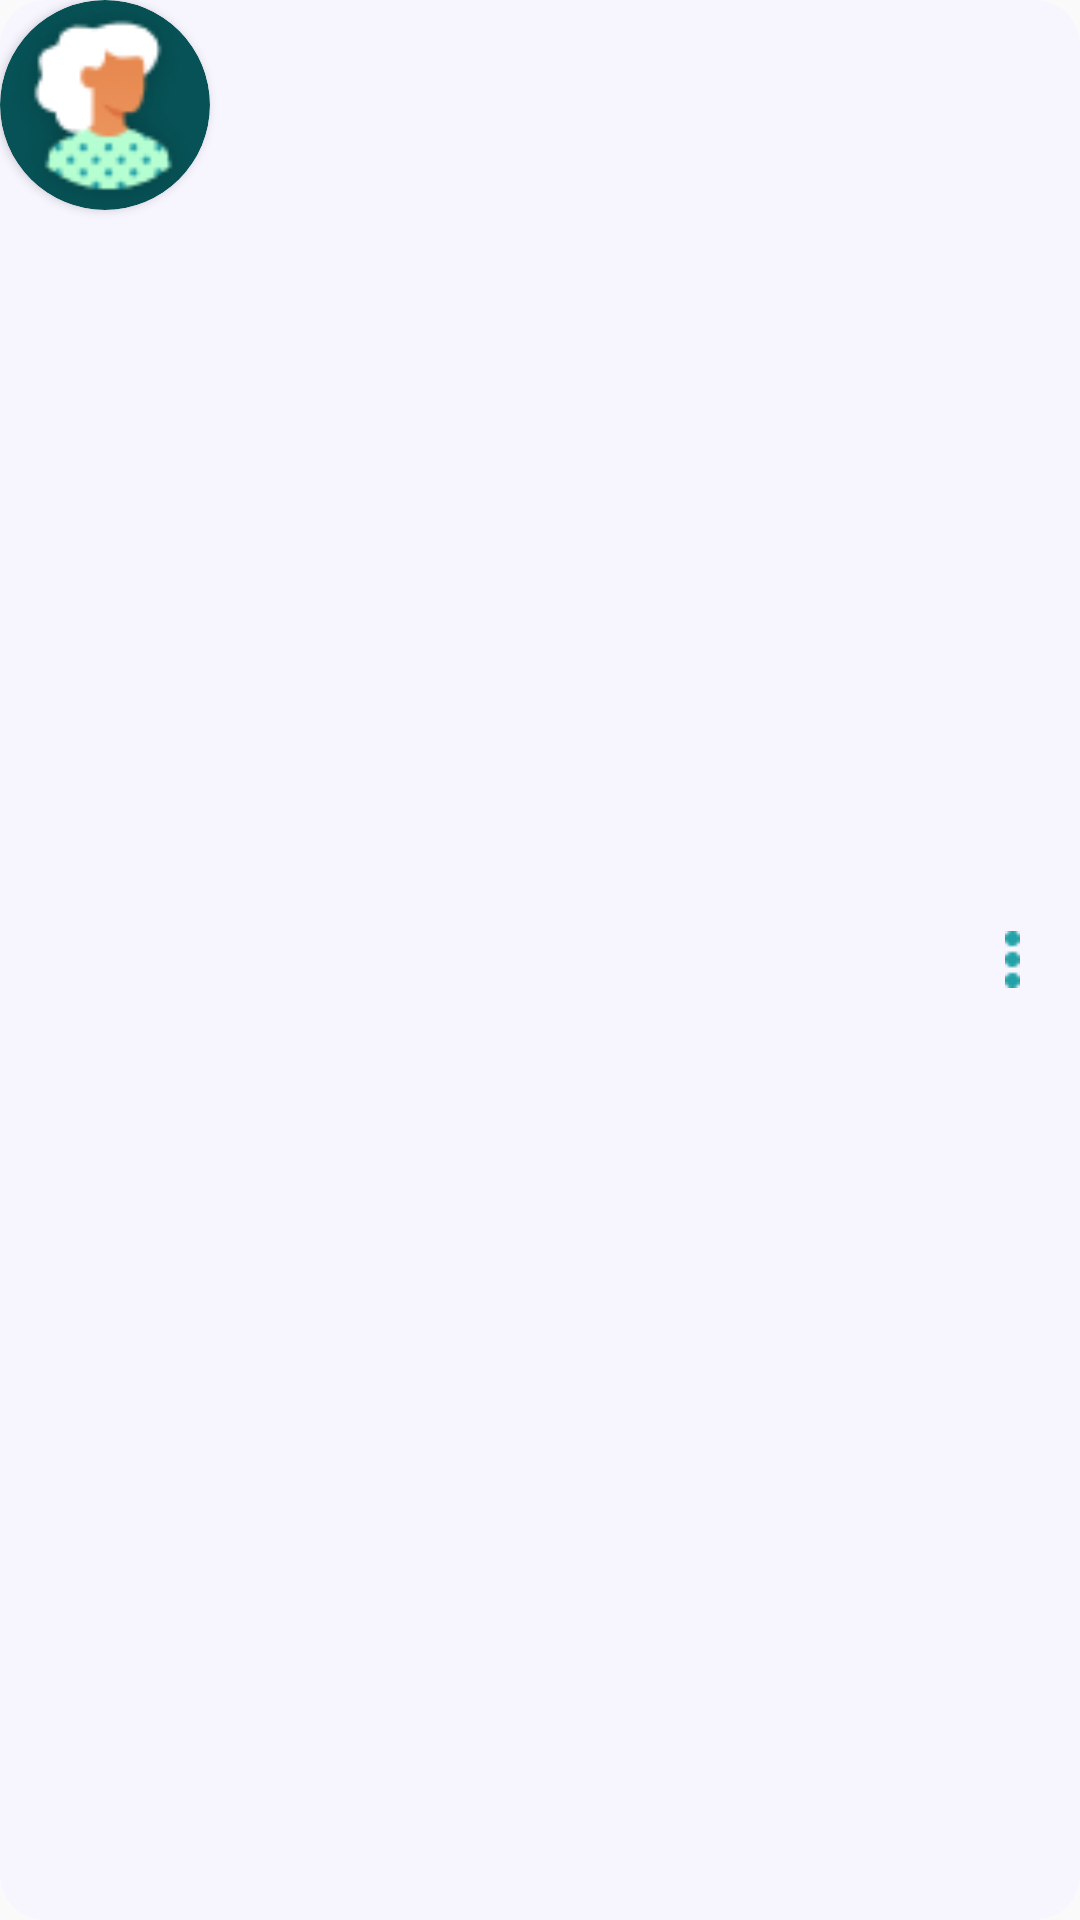

Icons on this 1080 x 1920 Android screen, each with the point to tap as [x,y]:
profile: [105,105]
